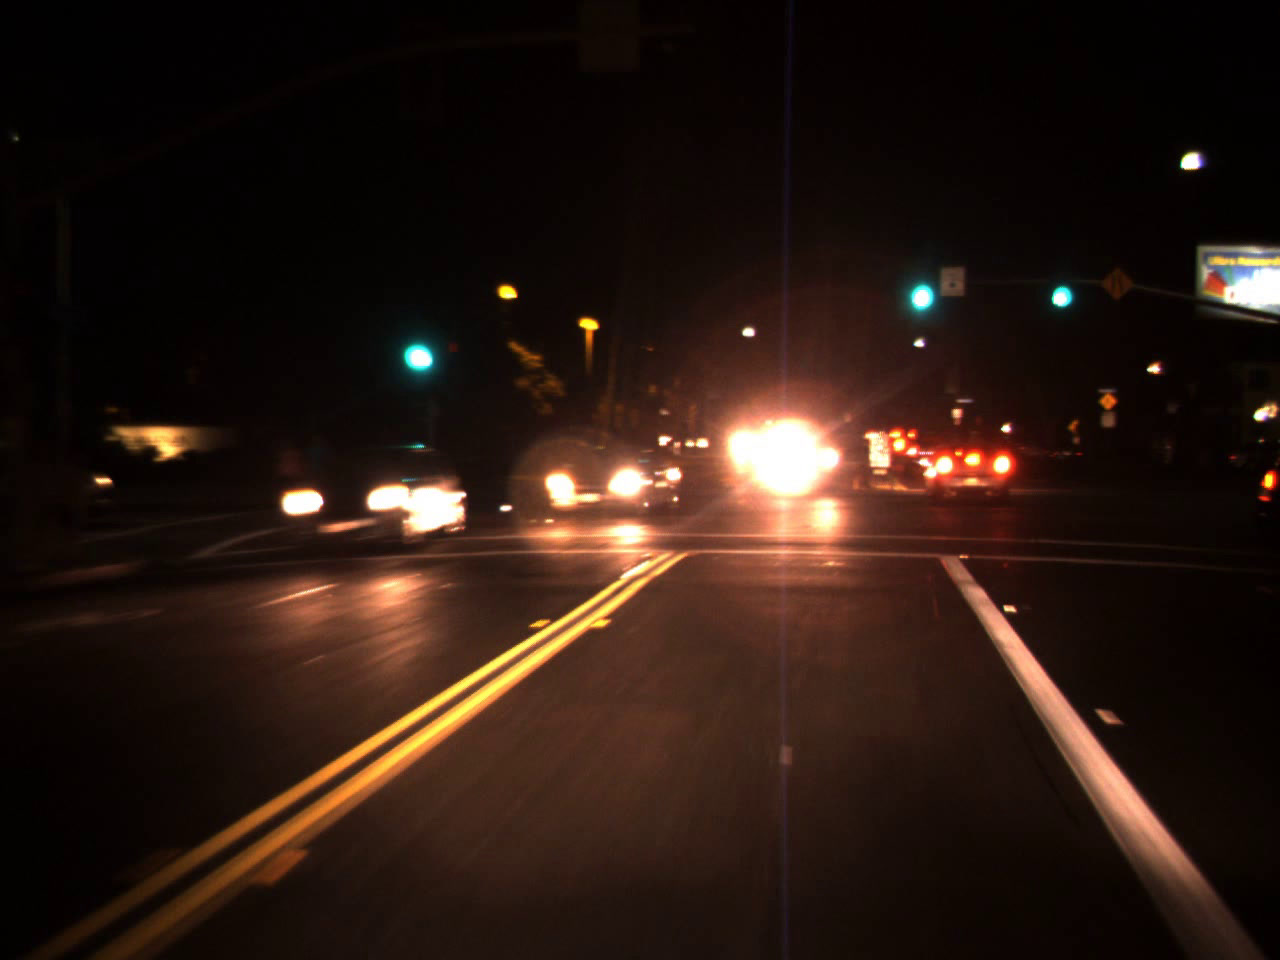go: (391, 307, 439, 382), (900, 250, 939, 322), (1042, 258, 1076, 315)
